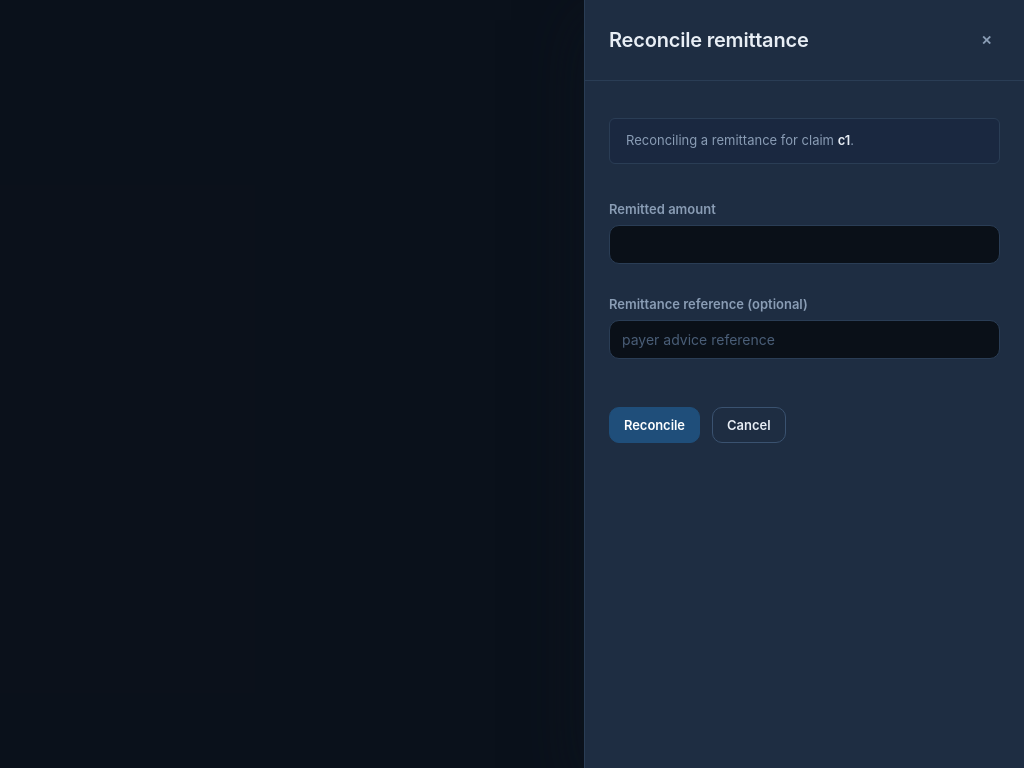
Test: ReconcileRemittance › 403 -> permission banner
This screenshot has width=1024, height=768.
Type "100.00" into the field labelled "Remitted amount" at [804, 244], box [609,225,1000,264]
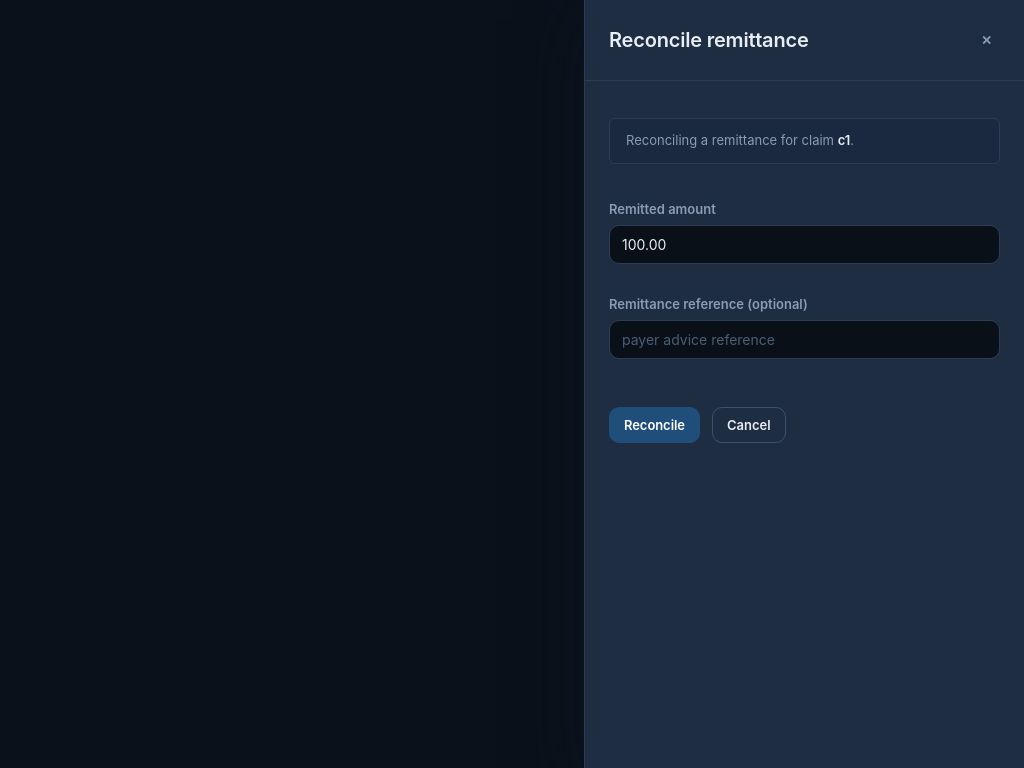
Click the button "Reconcile" at [654, 425], box [609,407,700,443]
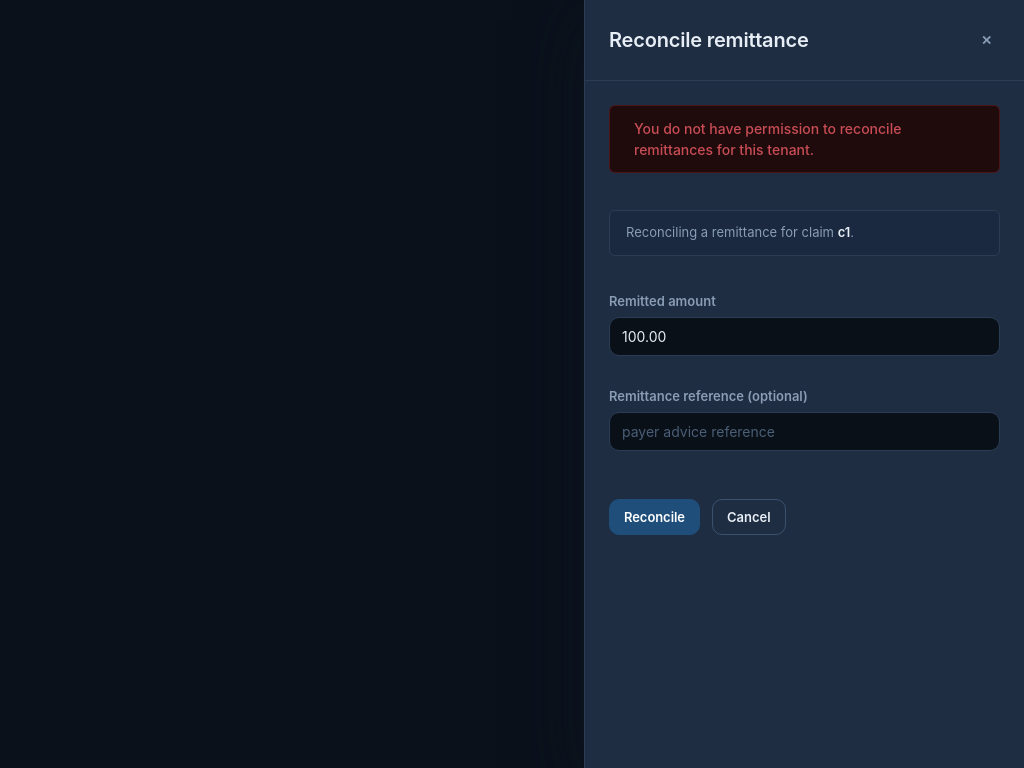
Expected: the text "permission" is shown, [634,120,901,158]
